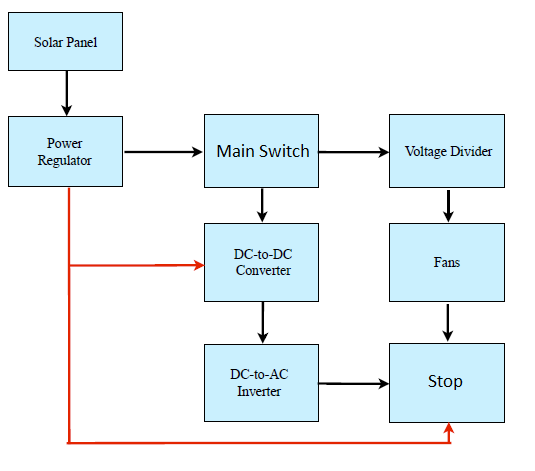arrow: (65, 185, 457, 446), (70, 259, 203, 272), (123, 144, 203, 159), (319, 144, 389, 159), (318, 378, 392, 391), (59, 70, 75, 115), (441, 302, 454, 344), (256, 301, 268, 343), (441, 186, 454, 222), (256, 186, 268, 222)
process: (386, 341, 508, 425), (386, 220, 507, 304), (201, 221, 321, 305), (201, 342, 321, 424), (201, 111, 321, 191), (386, 112, 508, 190), (6, 114, 125, 189), (6, 9, 125, 73)
text: (228, 365, 290, 401), (231, 244, 296, 277), (35, 136, 93, 170), (213, 142, 311, 160), (404, 144, 493, 159), (33, 34, 98, 51), (426, 372, 466, 391), (432, 254, 460, 269)
